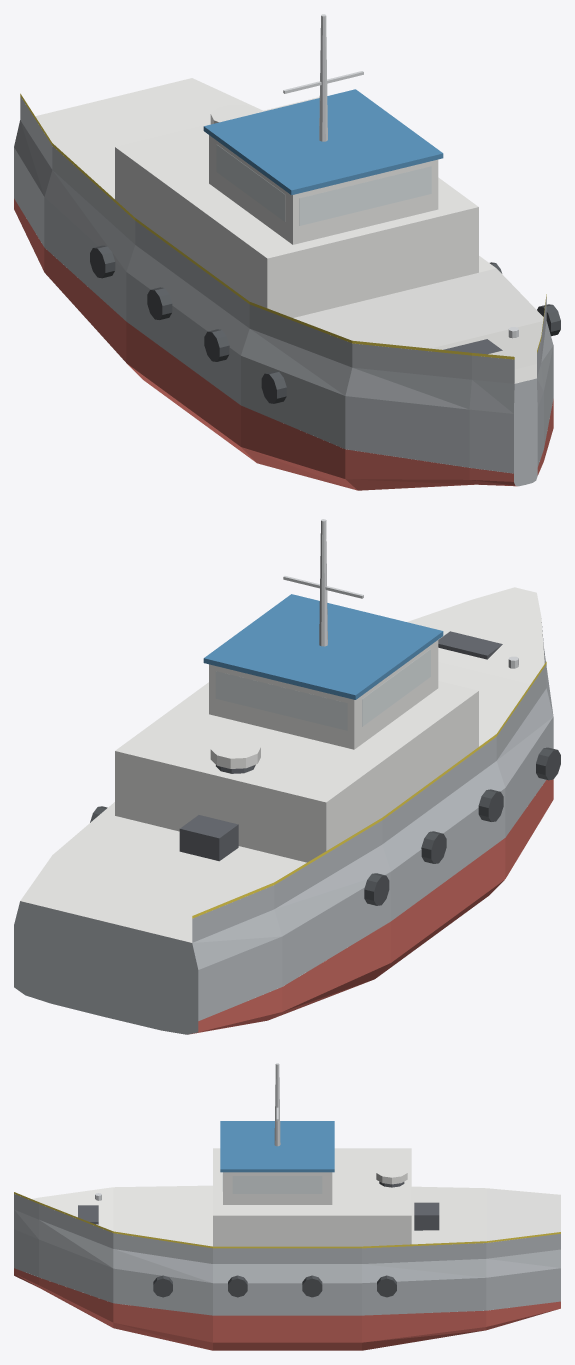
File: shipyard-and-dry-dock-shipyard-and-dry-dock-harbour-tu-af268e04__37969.glb
The picture shows the model from 3 angles, top to bottom: view 1: azimuth 30°, elevation 25°; view 2: azimuth 150°, elevation 25°; view 3: azimuth 270°, elevation 25°; orthographic projection. The views are drawn at different scales.
Parts seen in each view (by area): view 1: shipyard-and-dry-dock-harbour-tug-hull; view 2: shipyard-and-dry-dock-harbour-tug-hull; view 3: shipyard-and-dry-dock-harbour-tug-hull.
Part boxes in pixels (x1,y1,x2,y2): shipyard-and-dry-dock-harbour-tug-hull: (14, 14, 560, 490); shipyard-and-dry-dock-harbour-tug-hull: (14, 519, 560, 1034); shipyard-and-dry-dock-harbour-tug-hull: (14, 1063, 560, 1350).
Size of the model in its own units: 8.6 by 11.34 by 22.
